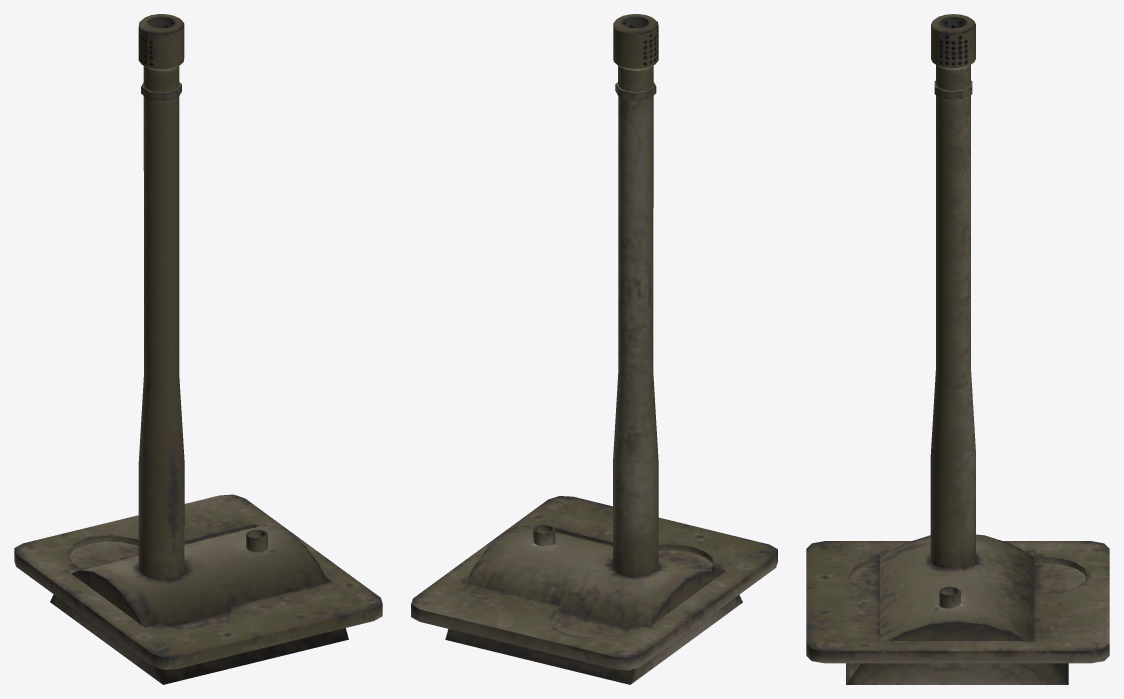
Rendered from Gun_06.glb.
3 views of the same model, side by side, from view 1: azimuth 30°, elevation 25°; view 2: azimuth 150°, elevation 25°; view 3: azimuth 270°, elevation 25° (orthographic).
Visible parts, largest first — view 1: set_0_group_0; view 2: set_0_group_0; view 3: set_0_group_0.
Boxes of the visible parts, x1,y1,x2,y2 form: set_0_group_0: (14, 14, 382, 684); set_0_group_0: (411, 14, 777, 684); set_0_group_0: (806, 14, 1109, 684).
Size of the model in its own units: 0.484 by 1.23 by 0.5655.
1 material, 1 textured.
